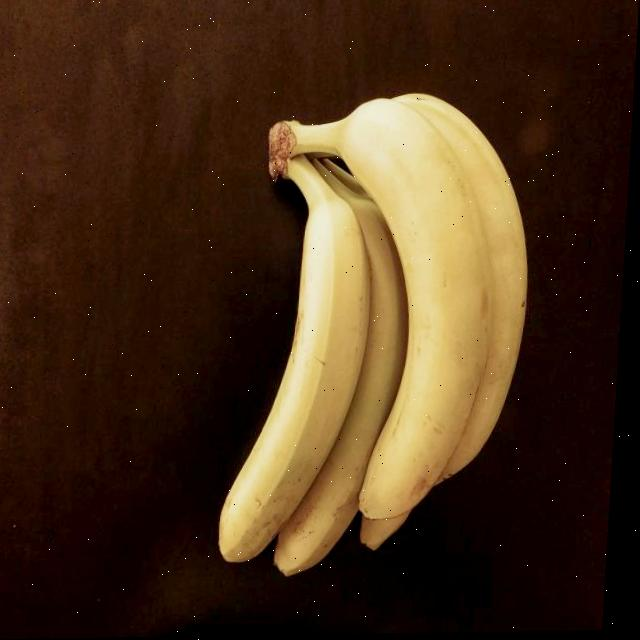banana: (207, 82, 543, 584)
